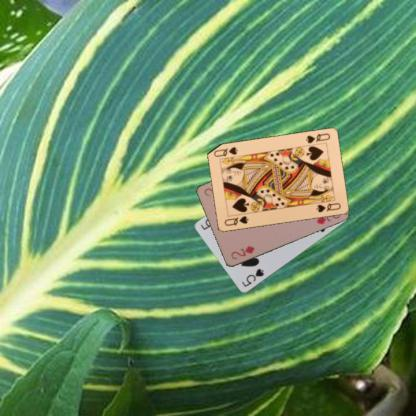2d: (228, 243, 256, 261)
5s: (239, 266, 265, 288)
Qs: (303, 131, 331, 145), (222, 213, 249, 227)
